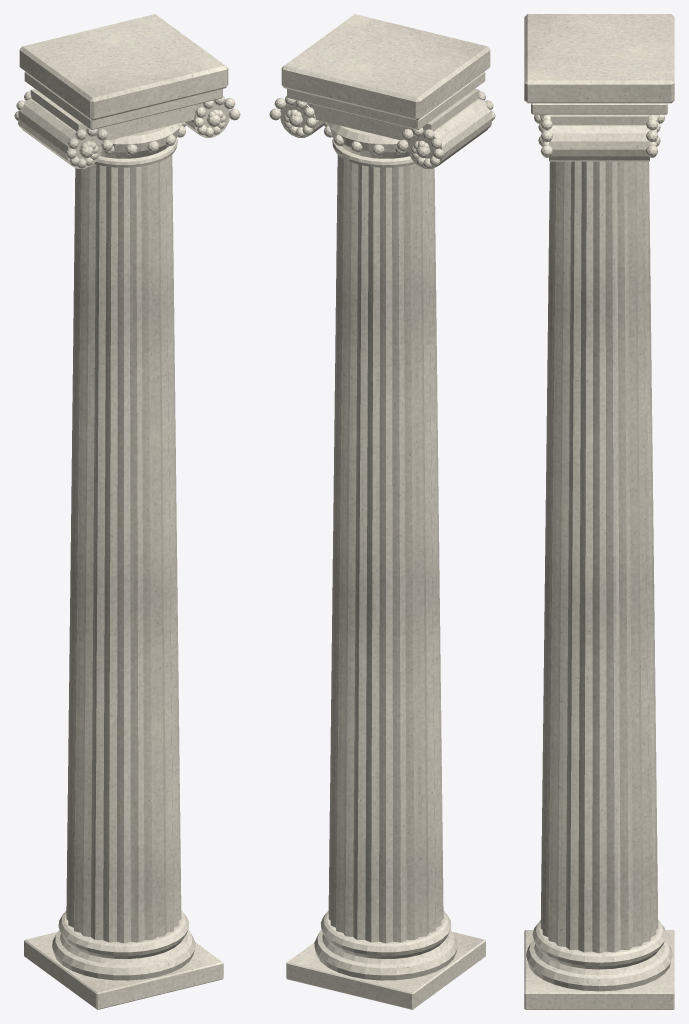
File: column.glb
The picture shows the model from 3 angles, left to right: view 1: azimuth 30°, elevation 25°; view 2: azimuth 150°, elevation 25°; view 3: azimuth 270°, elevation 25°; orthographic projection. The views are drawn at different scales.
Visible parts, largest first — view 1: column_carve; view 2: column_carve; view 3: column_carve.
Boxes of the visible parts, left/top/right/bottom form: column_carve: left=14, top=14, right=240, bottom=1009; column_carve: left=269, top=14, right=495, bottom=1009; column_carve: left=524, top=14, right=674, bottom=1009.
Size of the model in its own units: 1.25 by 6.3 by 0.92.
1 material, 1 textured.
